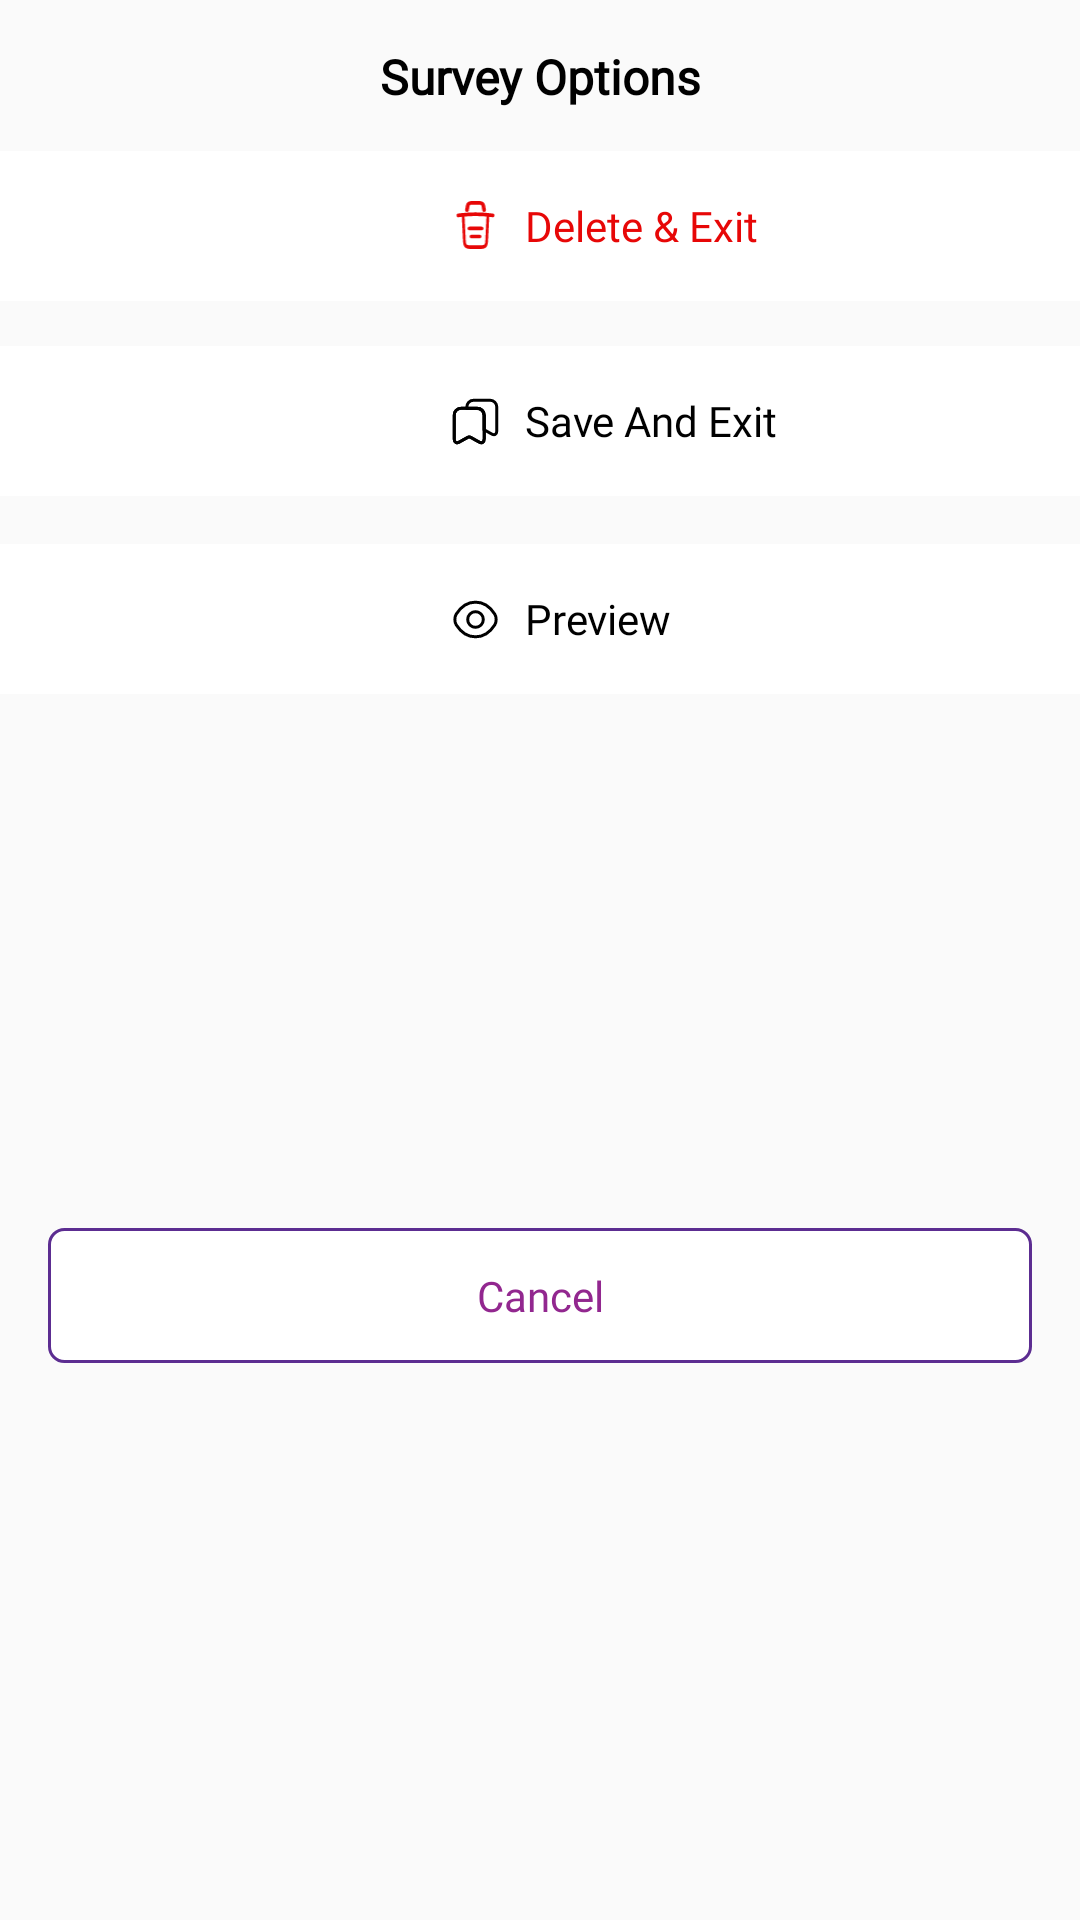

Named icons in this screenshot (1080x1920) and their bounding boxes, detection(x1, y1, x2, y2):
save survey: detection(452, 398, 499, 445)
